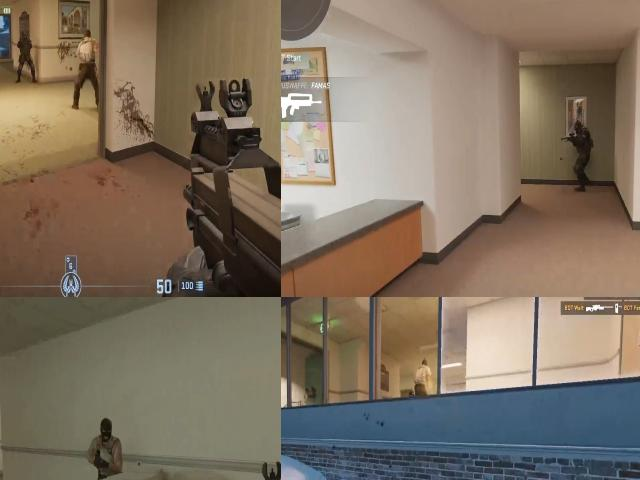CT: (572, 118, 592, 164), (17, 38, 34, 59)
CT-Head: (573, 119, 586, 139), (21, 31, 29, 44)
T: (91, 415, 122, 474), (74, 37, 100, 68), (96, 415, 116, 443), (416, 360, 431, 397)
T-Head: (416, 357, 431, 373), (80, 28, 94, 43)
